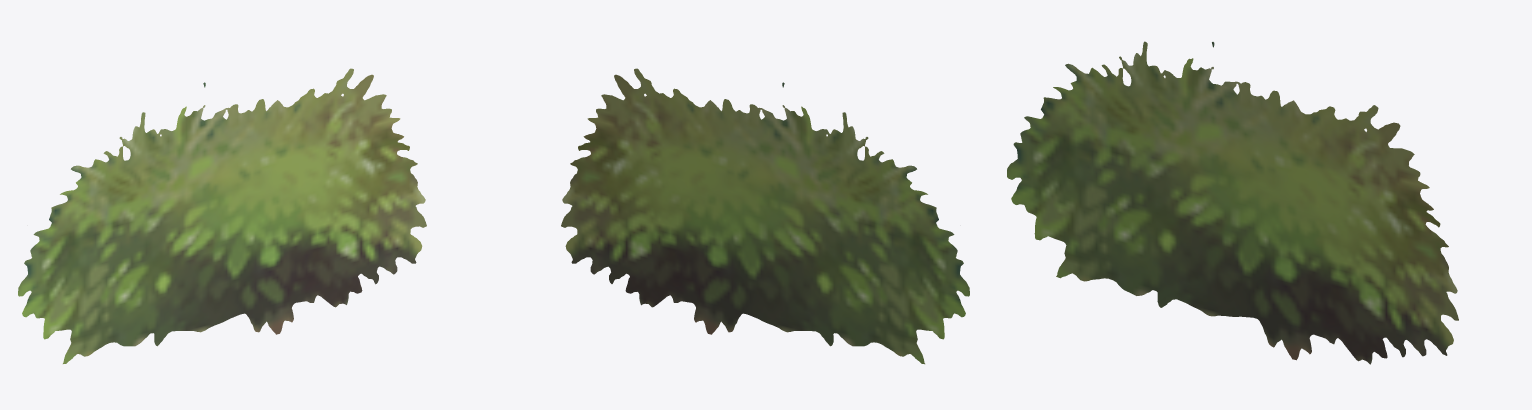
File: Jiubajie_hua08_fbx.FBX
The picture shows the model from 3 angles, left to right: view 1: azimuth 30°, elevation 25°; view 2: azimuth 150°, elevation 25°; view 3: azimuth 330°, elevation 25°; orthographic projection. The views are drawn at different scales.
Visible parts, largest first — view 1: Jiubajie_hua08_fbx; view 2: Jiubajie_hua08_fbx; view 3: Jiubajie_hua08_fbx.
Boxes of the visible parts, x1,y1,x2,y2 form: Jiubajie_hua08_fbx: (18,68,426,363); Jiubajie_hua08_fbx: (561,68,969,364); Jiubajie_hua08_fbx: (1007,41,1458,364).
Bounding box in the file's own units: 0.2849 × 0.1583 × 4.36e-05.
Materials: 1 (1 with a texture image).
